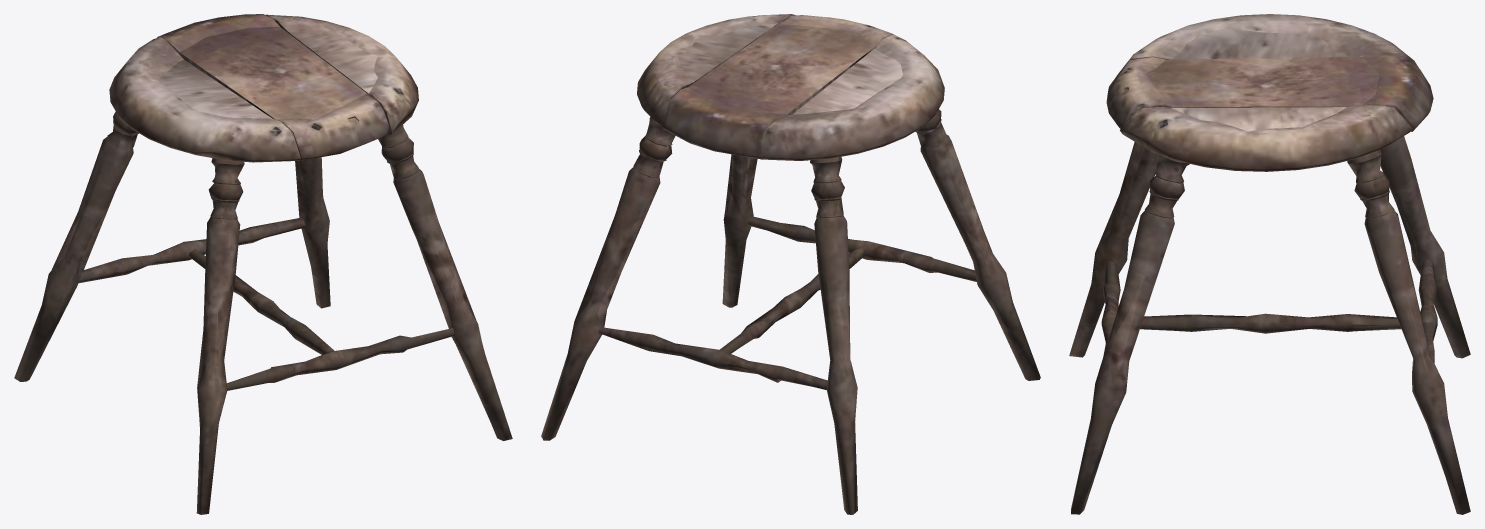
Rendered from wooden_stool_01.glb.
3 renders of one model, left to right at view 1: azimuth 30°, elevation 25°; view 2: azimuth 150°, elevation 25°; view 3: azimuth 270°, elevation 25°, orthographic. The views are drawn at different scales.
Visible parts, largest first — view 1: wooden_stool_01, wooden_stool_01_lo; view 2: wooden_stool_01, wooden_stool_01_lo; view 3: wooden_stool_01, wooden_stool_01_lo.
Part boxes in pixels (bbox=[...]): wooden_stool_01: bbox=[14, 14, 512, 514]; wooden_stool_01_lo: bbox=[31, 24, 487, 426]; wooden_stool_01: bbox=[541, 14, 1040, 514]; wooden_stool_01_lo: bbox=[556, 23, 1008, 433]; wooden_stool_01: bbox=[1069, 14, 1470, 514]; wooden_stool_01_lo: bbox=[1095, 19, 1454, 390].
Bounding box in the file's own units: 0.4246 × 0.4365 × 0.4411.
Materials: 1 (1 with a texture image).
